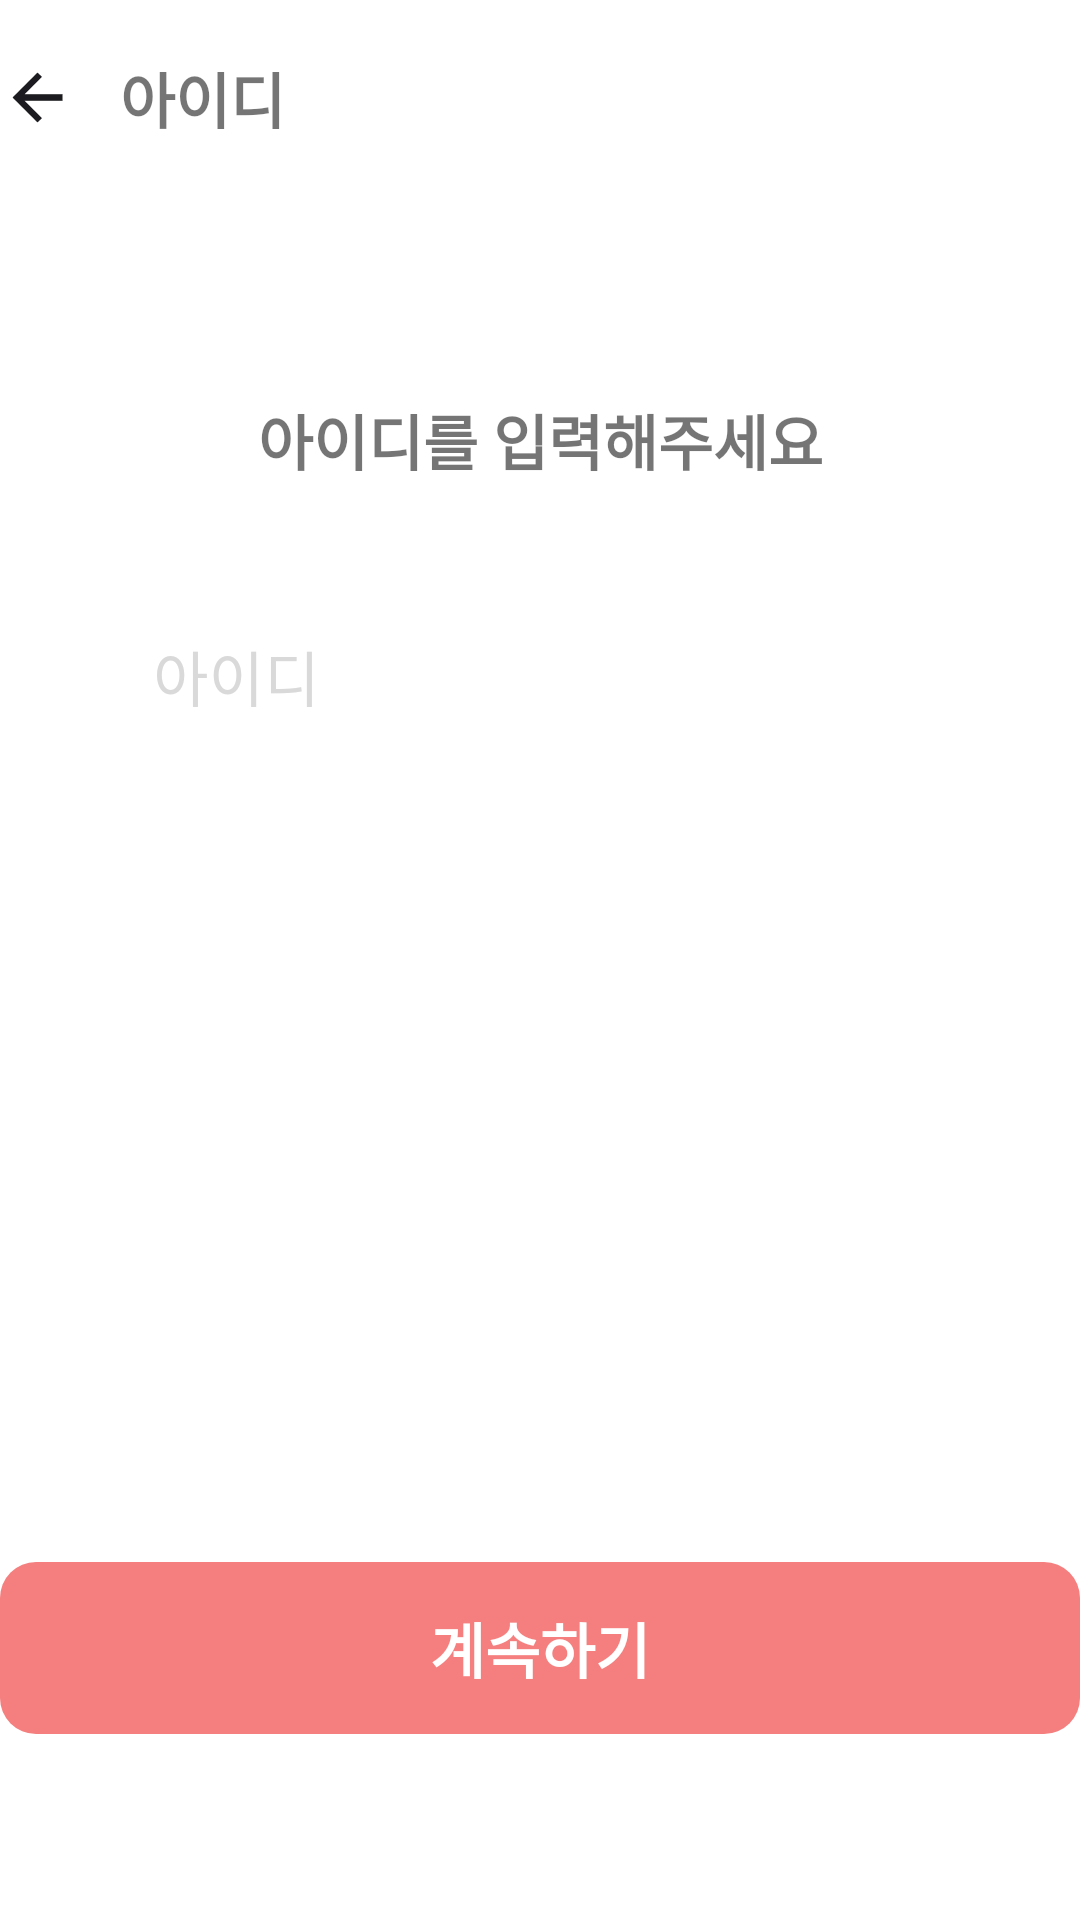

Icons on this 1080 x 1920 Android screen, each with the point to tap as point (x, y):
back: point (37, 97)
